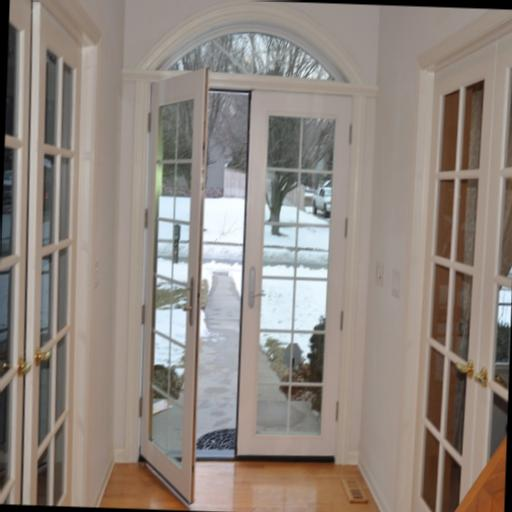Door: (409, 6, 512, 512), (0, 0, 95, 506), (236, 90, 352, 460), (135, 66, 209, 504)
